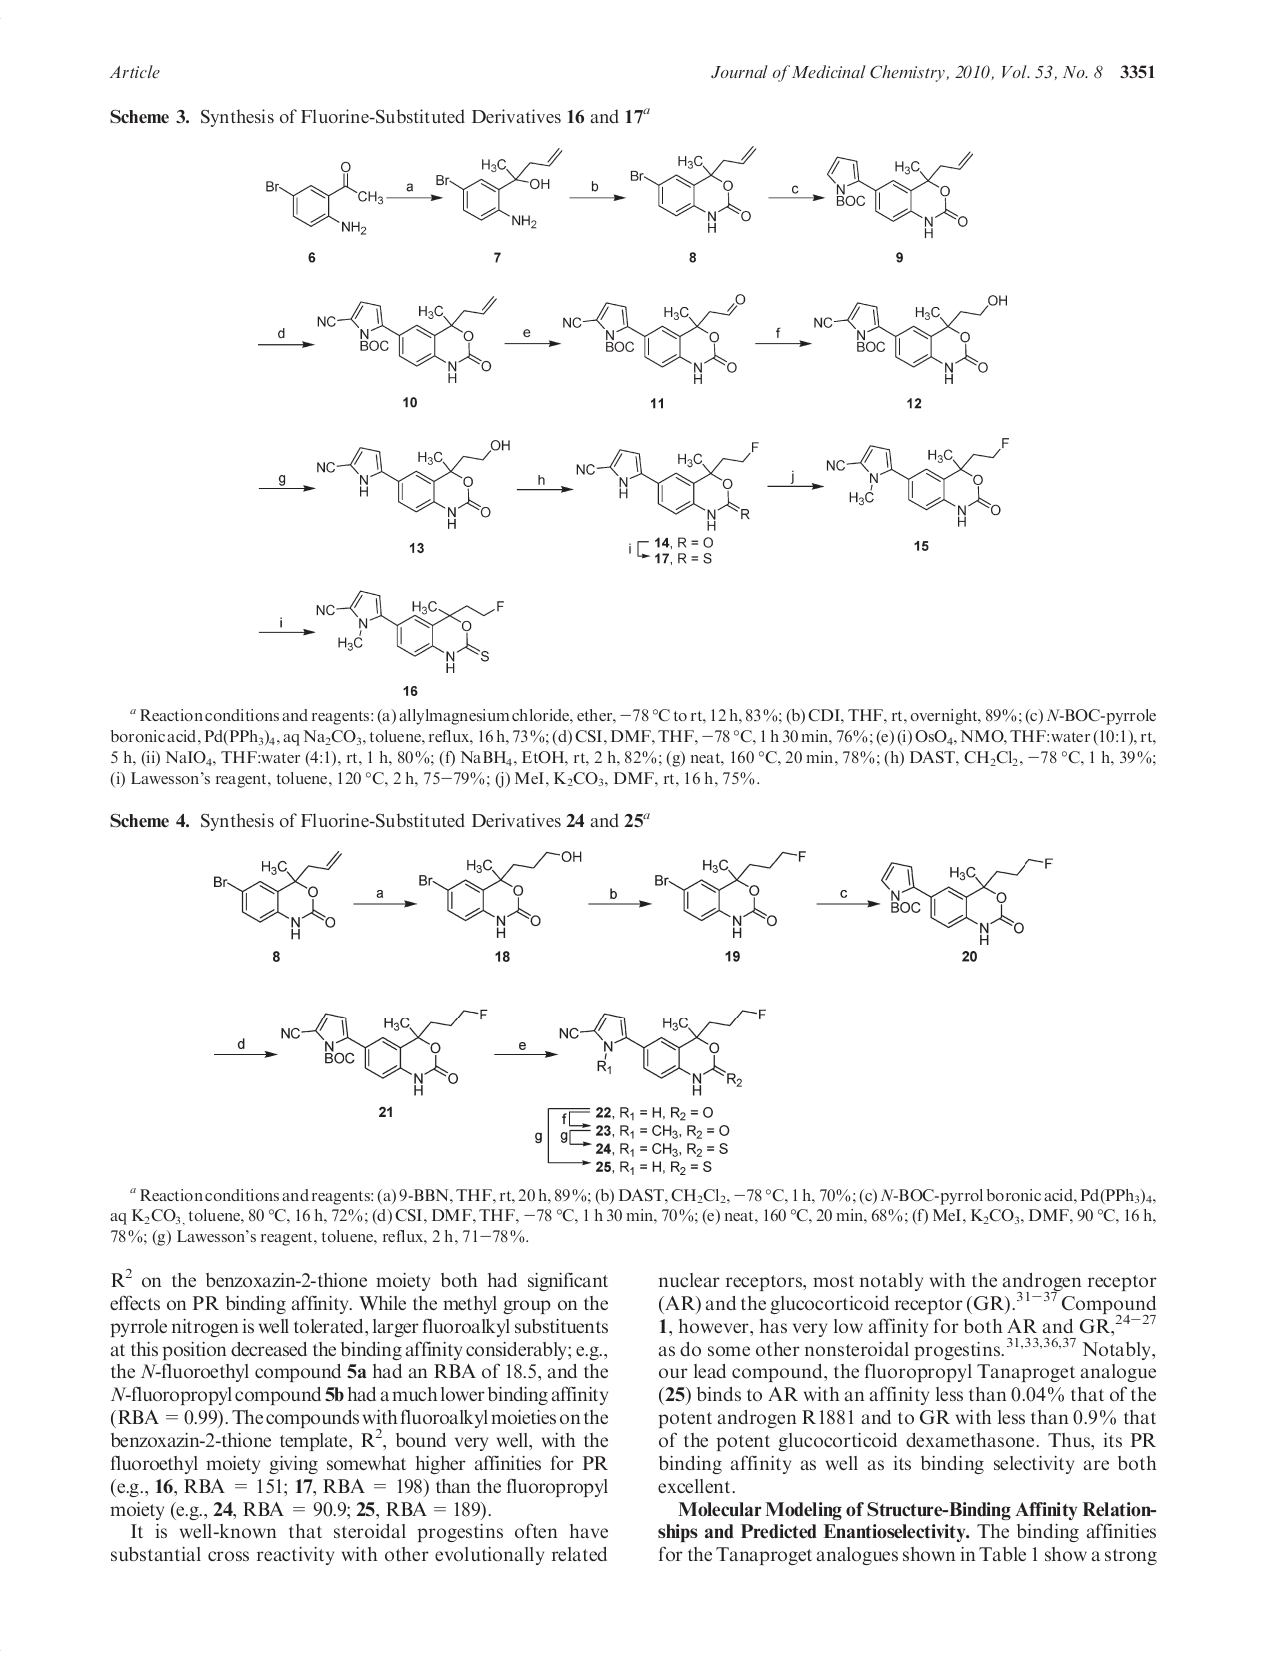exist_molecular: (557, 997, 771, 1097), (313, 435, 525, 531), (811, 289, 1020, 386), (274, 1000, 488, 1093), (572, 434, 771, 533), (880, 851, 1064, 954), (822, 434, 1023, 525), (309, 588, 509, 677), (416, 846, 593, 939), (822, 142, 985, 239), (652, 844, 811, 939), (206, 844, 355, 944), (626, 142, 771, 239), (432, 142, 569, 231), (261, 154, 388, 237)
